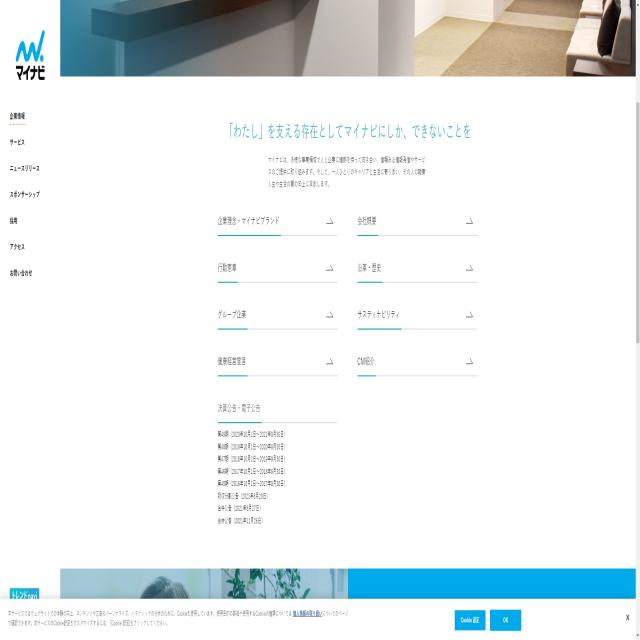menu-panel: (4, 109, 46, 286)
